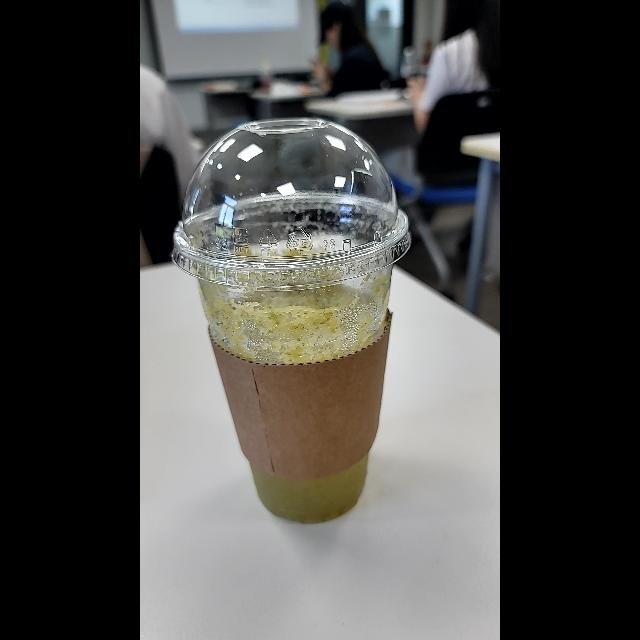plastic_cup: (164, 120, 418, 538)
plastic_cup_lid: (172, 117, 410, 290)
